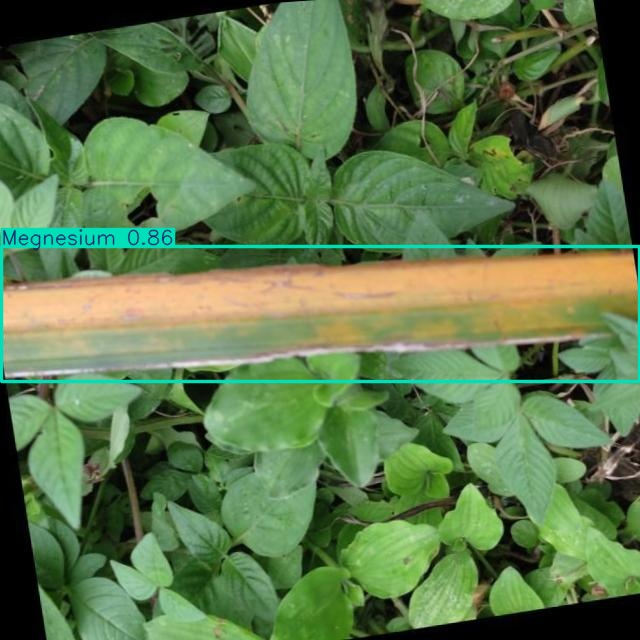Megnesium: (1, 246, 639, 381)
